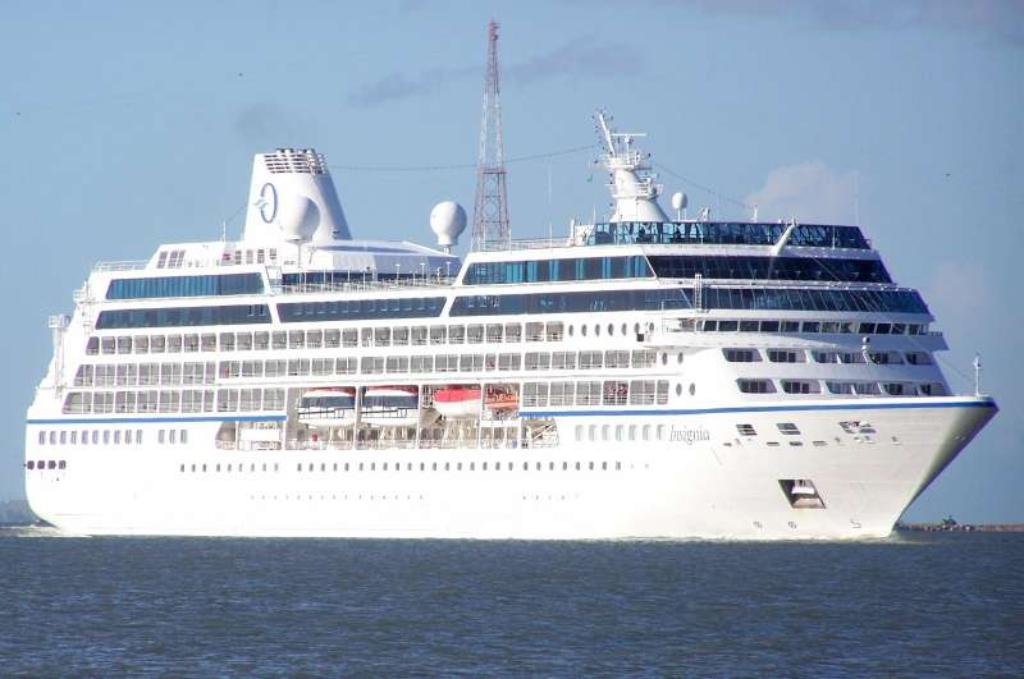PassengerShip: (10, 115, 1006, 546)
